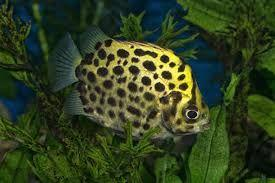Scat Fish: (43, 26, 214, 144)
